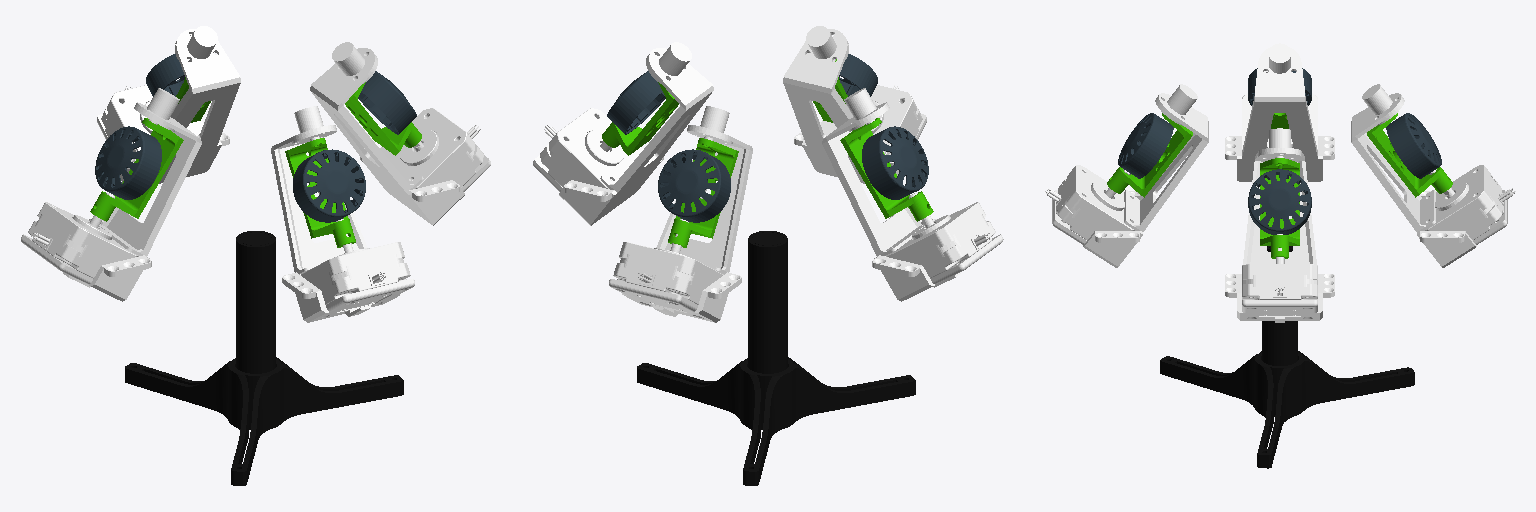
The robot description file, URDF, robot "vscmg":
<?xml version="1.0" ?>
<!-- =================================================================================== -->
<!-- |    This document was autogenerated by xacro from vscmg.urdf.xacro               | -->
<!-- |    EDITING THIS FILE BY HAND IS NOT RECOMMENDED                                 | -->
<!-- =================================================================================== -->
<robot name="vscmg">
  <material name="blue">
    <color rgba="0 0 0.8 1"/>
  </material>
  <material name="platform_color">
    <color rgba="0.7843137254901961 0.7843137254901961 0.7843137254901961 1.0"/>
  </material>
  <material name="tripod_color">
    <color rgba="0.1 0.1 0.1 1.0"/>
  </material>
  <material name="cmg_frame_color">
    <color rgba="1.0 1.0 1.0 1.0"/>
  </material>
  <material name="gimbal_color">
    <color rgba="0.3 0.8 0.05 1.0"/>
  </material>
  <material name="rw_color">
    <color rgba="0.23 0.29 0.33 1.0"/>
  </material>
  <link name="floating_base"/>
  <joint name="floating_base_joint" type="fixed">
    <origin rpy="0.0 0.0 0.0" xyz="0.0 0.0 0.0"/>
    <parent link="floating_base"/>
    <child link="platform"/>
    <axis xyz="0.0 0.0 0.0"/>
    <limit effort="0.0" lower="0.0" upper="0.0" velocity="0.0"/>
  </joint>
  <link name="platform">
    <inertial>
      <origin rpy="0.0 0.0 0.0" xyz="0.0 0.0 0.0"/>
      <mass value="0.0"/>
      <inertia ixx="0.0" ixy="0.0" ixz="0.0" iyy="0.0" iyz="0.0" izz="0.0"/>
    </inertial>
    <visual name="">
      <origin rpy="0.0 0.0 0.0" xyz="0.0 0.0 0.05"/>
      <geometry>
        <mesh filename="package://vscmg_description/meshes/base.stl" scale="0.001 0.001 0.001"/>
      </geometry>
      <material name="platform_color"/>
    </visual>
    <collision>
      <origin rpy="0.0 0.0 0.0" xyz="0.0 0.0 0.05"/>
      <geometry>
        <mesh filename="package://vscmg_description/meshes/base.stl" scale="0.001 0.001 0.001"/>
      </geometry>
    </collision>
  </link>
  <!-- SGCMG base frame -->
  <link name="sgcmg_frame_1">
    <inertial>
      <origin rpy="0.0 0.0 0.0" xyz="0.0 0.0 0.0"/>
      <mass value="0.0"/>
      <inertia ixx="0.0" ixy="0.0" ixz="0.0" iyy="0.0" iyz="0.0" izz="0.0"/>
    </inertial>
    <visual name="">
      <origin rpy="0.0 0.0 0.0" xyz="0.0 0.0 0.0"/>
      <geometry>
        <mesh filename="package://vscmg_description/meshes/cmg_frame_z.stl" scale="0.001 0.001 0.001"/>
      </geometry>
      <material name="cmg_frame_color"/>
    </visual>
    <collision>
      <origin rpy="0.0 0.0 0.0" xyz="0.0 0.0 0.0"/>
      <geometry>
        <mesh filename="package://vscmg_description/meshes/cmg_frame_z.stl" scale="0.001 0.001 0.001"/>
      </geometry>
    </collision>
  </link>
  <!-- SGCMG Gimbal  -->
  <link name="gimbal_frame_1">
    <inertial>
      <origin rpy="0.0 0.0 0.0" xyz="0.0 0.0 0.0"/>
      <mass value="0.0"/>
      <inertia ixx="0.0" ixy="0.0" ixz="0.0" iyy="0.0" iyz="0.0" izz="0.0"/>
    </inertial>
    <visual name="">
      <origin rpy="0.0 0.0 0.0" xyz="0.0 0.0 0.0"/>
      <geometry>
        <mesh filename="package://vscmg_description/meshes/gimbal_frame_z.stl" scale="0.001 0.001 0.001"/>
      </geometry>
      <material name="gimbal_color"/>
    </visual>
    <collision>
      <origin rpy="0.0 0.0 0.0" xyz="0.0 0.0 0.0"/>
      <geometry>
        <mesh filename="package://vscmg_description/meshes/gimbal_frame_z.stl" scale="0.001 0.001 0.001"/>
      </geometry>
    </collision>
  </link>
  <!-- SGCMG Reaction Wheel  -->
  <link name="rw_frame_1">
    <inertial>
      <origin rpy="0.0 0.0 0.0" xyz="0.0 0.0 0.0"/>
      <mass value="0.0"/>
      <inertia ixx="0.0" ixy="0.0" ixz="0.0" iyy="0.0" iyz="0.0" izz="0.0"/>
    </inertial>
    <visual name="">
      <origin rpy="0.0 0.0 0.0" xyz="0.0 0.0 0.0"/>
      <geometry>
        <mesh filename="package://vscmg_description/meshes/rw_y.stl" scale="0.001 0.001 0.001"/>
      </geometry>
      <material name="rw_color"/>
    </visual>
    <collision>
      <origin rpy="0.0 0.0 0.0" xyz="0.0 0.0 0.0"/>
      <geometry>
        <mesh filename="package://vscmg_description/meshes/rw_y.stl" scale="0.001 0.001 0.001"/>
      </geometry>
    </collision>
  </link>
  <!-- Fixed joint of SGCMG attached to parent -->
  <joint name="j1" type="fixed">
    <origin rpy="0.6154797086703873 0.0 0.0" xyz="4.500576986866523e-18 0.0735 0.059"/>
    <parent link="platform"/>
    <child link="sgcmg_frame_1"/>
    <axis xyz="0.0 0.0 0.0"/>
    <limit effort="0.0" lower="0.0" upper="0.0" velocity="0.0"/>
  </joint>
  <!-- Joint at Gimbal Axis -->
  <!-- <joint name="sgcmg_frame_${id}_to_gimbal_frame_${id}" type="continuous"> -->
  <joint name="gimbal_1" type="continuous">
    <origin rpy="0.0 0.0 0.0" xyz="0.0 0.0 0.0"/>
    <parent link="sgcmg_frame_1"/>
    <child link="gimbal_frame_1"/>
    <axis xyz="0.0 0.0 1.0"/>
    <limit effort="0.0" lower="0.0" upper="0.0" velocity="0.0"/>
  </joint>
  <!-- Joint at Reaction wheel spin Axis -->
  <!-- <joint name="rw_${id}_to_sgcmg_frame_${id}" type="continuous">  -->
  <joint name="wheel_1" type="continuous">
    <origin rpy="0.0 0.0 0.0" xyz="0.0 0.0 0.0"/>
    <parent link="gimbal_frame_1"/>
    <child link="rw_frame_1"/>
    <axis xyz="0.0 1.0 0.0"/>
    <limit effort="0.0" lower="0.0" upper="0.0" velocity="0.0"/>
  </joint>
  <!-- SGCMG base frame -->
  <link name="sgcmg_frame_2">
    <inertial>
      <origin rpy="0.0 0.0 0.0" xyz="0.0 0.0 0.0"/>
      <mass value="0.0"/>
      <inertia ixx="0.0" ixy="0.0" ixz="0.0" iyy="0.0" iyz="0.0" izz="0.0"/>
    </inertial>
    <visual name="">
      <origin rpy="0.0 0.0 0.0" xyz="0.0 0.0 0.0"/>
      <geometry>
        <mesh filename="package://vscmg_description/meshes/cmg_frame_z.stl" scale="0.001 0.001 0.001"/>
      </geometry>
      <material name="cmg_frame_color"/>
    </visual>
    <collision>
      <origin rpy="0.0 0.0 0.0" xyz="0.0 0.0 0.0"/>
      <geometry>
        <mesh filename="package://vscmg_description/meshes/cmg_frame_z.stl" scale="0.001 0.001 0.001"/>
      </geometry>
    </collision>
  </link>
  <!-- SGCMG Gimbal  -->
  <link name="gimbal_frame_2">
    <inertial>
      <origin rpy="0.0 0.0 0.0" xyz="0.0 0.0 0.0"/>
      <mass value="0.0"/>
      <inertia ixx="0.0" ixy="0.0" ixz="0.0" iyy="0.0" iyz="0.0" izz="0.0"/>
    </inertial>
    <visual name="">
      <origin rpy="0.0 0.0 0.0" xyz="0.0 0.0 0.0"/>
      <geometry>
        <mesh filename="package://vscmg_description/meshes/gimbal_frame_z.stl" scale="0.001 0.001 0.001"/>
      </geometry>
      <material name="gimbal_color"/>
    </visual>
    <collision>
      <origin rpy="0.0 0.0 0.0" xyz="0.0 0.0 0.0"/>
      <geometry>
        <mesh filename="package://vscmg_description/meshes/gimbal_frame_z.stl" scale="0.001 0.001 0.001"/>
      </geometry>
    </collision>
  </link>
  <!-- SGCMG Reaction Wheel  -->
  <link name="rw_frame_2">
    <inertial>
      <origin rpy="0.0 0.0 0.0" xyz="0.0 0.0 0.0"/>
      <mass value="0.0"/>
      <inertia ixx="0.0" ixy="0.0" ixz="0.0" iyy="0.0" iyz="0.0" izz="0.0"/>
    </inertial>
    <visual name="">
      <origin rpy="0.0 0.0 0.0" xyz="0.0 0.0 0.0"/>
      <geometry>
        <mesh filename="package://vscmg_description/meshes/rw_y.stl" scale="0.001 0.001 0.001"/>
      </geometry>
      <material name="rw_color"/>
    </visual>
    <collision>
      <origin rpy="0.0 0.0 0.0" xyz="0.0 0.0 0.0"/>
      <geometry>
        <mesh filename="package://vscmg_description/meshes/rw_y.stl" scale="0.001 0.001 0.001"/>
      </geometry>
    </collision>
  </link>
  <!-- Fixed joint of SGCMG attached to parent -->
  <joint name="j2" type="fixed">
    <origin rpy="0.6154797086703873 0.0 1.5707963267948966" xyz="-0.0735 9.001153973733046e-18 0.059"/>
    <parent link="platform"/>
    <child link="sgcmg_frame_2"/>
    <axis xyz="0.0 0.0 0.0"/>
    <limit effort="0.0" lower="0.0" upper="0.0" velocity="0.0"/>
  </joint>
  <!-- Joint at Gimbal Axis -->
  <!-- <joint name="sgcmg_frame_${id}_to_gimbal_frame_${id}" type="continuous"> -->
  <joint name="gimbal_2" type="continuous">
    <origin rpy="0.0 0.0 0.0" xyz="0.0 0.0 0.0"/>
    <parent link="sgcmg_frame_2"/>
    <child link="gimbal_frame_2"/>
    <axis xyz="0.0 0.0 1.0"/>
    <limit effort="0.0" lower="0.0" upper="0.0" velocity="0.0"/>
  </joint>
  <!-- Joint at Reaction wheel spin Axis -->
  <!-- <joint name="rw_${id}_to_sgcmg_frame_${id}" type="continuous">  -->
  <joint name="wheel_2" type="continuous">
    <origin rpy="0.0 0.0 0.0" xyz="0.0 0.0 0.0"/>
    <parent link="gimbal_frame_2"/>
    <child link="rw_frame_2"/>
    <axis xyz="0.0 1.0 0.0"/>
    <limit effort="0.0" lower="0.0" upper="0.0" velocity="0.0"/>
  </joint>
  <!-- SGCMG base frame -->
  <link name="sgcmg_frame_3">
    <inertial>
      <origin rpy="0.0 0.0 0.0" xyz="0.0 0.0 0.0"/>
      <mass value="0.0"/>
      <inertia ixx="0.0" ixy="0.0" ixz="0.0" iyy="0.0" iyz="0.0" izz="0.0"/>
    </inertial>
    <visual name="">
      <origin rpy="0.0 0.0 0.0" xyz="0.0 0.0 0.0"/>
      <geometry>
        <mesh filename="package://vscmg_description/meshes/cmg_frame_z.stl" scale="0.001 0.001 0.001"/>
      </geometry>
      <material name="cmg_frame_color"/>
    </visual>
    <collision>
      <origin rpy="0.0 0.0 0.0" xyz="0.0 0.0 0.0"/>
      <geometry>
        <mesh filename="package://vscmg_description/meshes/cmg_frame_z.stl" scale="0.001 0.001 0.001"/>
      </geometry>
    </collision>
  </link>
  <!-- SGCMG Gimbal  -->
  <link name="gimbal_frame_3">
    <inertial>
      <origin rpy="0.0 0.0 0.0" xyz="0.0 0.0 0.0"/>
      <mass value="0.0"/>
      <inertia ixx="0.0" ixy="0.0" ixz="0.0" iyy="0.0" iyz="0.0" izz="0.0"/>
    </inertial>
    <visual name="">
      <origin rpy="0.0 0.0 0.0" xyz="0.0 0.0 0.0"/>
      <geometry>
        <mesh filename="package://vscmg_description/meshes/gimbal_frame_z.stl" scale="0.001 0.001 0.001"/>
      </geometry>
      <material name="gimbal_color"/>
    </visual>
    <collision>
      <origin rpy="0.0 0.0 0.0" xyz="0.0 0.0 0.0"/>
      <geometry>
        <mesh filename="package://vscmg_description/meshes/gimbal_frame_z.stl" scale="0.001 0.001 0.001"/>
      </geometry>
    </collision>
  </link>
  <!-- SGCMG Reaction Wheel  -->
  <link name="rw_frame_3">
    <inertial>
      <origin rpy="0.0 0.0 0.0" xyz="0.0 0.0 0.0"/>
      <mass value="0.0"/>
      <inertia ixx="0.0" ixy="0.0" ixz="0.0" iyy="0.0" iyz="0.0" izz="0.0"/>
    </inertial>
    <visual name="">
      <origin rpy="0.0 0.0 0.0" xyz="0.0 0.0 0.0"/>
      <geometry>
        <mesh filename="package://vscmg_description/meshes/rw_y.stl" scale="0.001 0.001 0.001"/>
      </geometry>
      <material name="rw_color"/>
    </visual>
    <collision>
      <origin rpy="0.0 0.0 0.0" xyz="0.0 0.0 0.0"/>
      <geometry>
        <mesh filename="package://vscmg_description/meshes/rw_y.stl" scale="0.001 0.001 0.001"/>
      </geometry>
    </collision>
  </link>
  <!-- Fixed joint of SGCMG attached to parent -->
  <joint name="j3" type="fixed">
    <origin rpy="0.6154797086703873 0.0 3.141592653589793" xyz="-1.3501730960599567e-17 -0.0735 0.059"/>
    <parent link="platform"/>
    <child link="sgcmg_frame_3"/>
    <axis xyz="0.0 0.0 0.0"/>
    <limit effort="0.0" lower="0.0" upper="0.0" velocity="0.0"/>
  </joint>
  <!-- Joint at Gimbal Axis -->
  <!-- <joint name="sgcmg_frame_${id}_to_gimbal_frame_${id}" type="continuous"> -->
  <joint name="gimbal_3" type="continuous">
    <origin rpy="0.0 0.0 0.0" xyz="0.0 0.0 0.0"/>
    <parent link="sgcmg_frame_3"/>
    <child link="gimbal_frame_3"/>
    <axis xyz="0.0 0.0 1.0"/>
    <limit effort="0.0" lower="0.0" upper="0.0" velocity="0.0"/>
  </joint>
  <!-- Joint at Reaction wheel spin Axis -->
  <!-- <joint name="rw_${id}_to_sgcmg_frame_${id}" type="continuous">  -->
  <joint name="wheel_3" type="continuous">
    <origin rpy="0.0 0.0 0.0" xyz="0.0 0.0 0.0"/>
    <parent link="gimbal_frame_3"/>
    <child link="rw_frame_3"/>
    <axis xyz="0.0 1.0 0.0"/>
    <limit effort="0.0" lower="0.0" upper="0.0" velocity="0.0"/>
  </joint>
  <!-- SGCMG base frame -->
  <link name="sgcmg_frame_4">
    <inertial>
      <origin rpy="0.0 0.0 0.0" xyz="0.0 0.0 0.0"/>
      <mass value="0.0"/>
      <inertia ixx="0.0" ixy="0.0" ixz="0.0" iyy="0.0" iyz="0.0" izz="0.0"/>
    </inertial>
    <visual name="">
      <origin rpy="0.0 0.0 0.0" xyz="0.0 0.0 0.0"/>
      <geometry>
        <mesh filename="package://vscmg_description/meshes/cmg_frame_z.stl" scale="0.001 0.001 0.001"/>
      </geometry>
      <material name="cmg_frame_color"/>
    </visual>
    <collision>
      <origin rpy="0.0 0.0 0.0" xyz="0.0 0.0 0.0"/>
      <geometry>
        <mesh filename="package://vscmg_description/meshes/cmg_frame_z.stl" scale="0.001 0.001 0.001"/>
      </geometry>
    </collision>
  </link>
  <!-- SGCMG Gimbal  -->
  <link name="gimbal_frame_4">
    <inertial>
      <origin rpy="0.0 0.0 0.0" xyz="0.0 0.0 0.0"/>
      <mass value="0.0"/>
      <inertia ixx="0.0" ixy="0.0" ixz="0.0" iyy="0.0" iyz="0.0" izz="0.0"/>
    </inertial>
    <visual name="">
      <origin rpy="0.0 0.0 0.0" xyz="0.0 0.0 0.0"/>
      <geometry>
        <mesh filename="package://vscmg_description/meshes/gimbal_frame_z.stl" scale="0.001 0.001 0.001"/>
      </geometry>
      <material name="gimbal_color"/>
    </visual>
    <collision>
      <origin rpy="0.0 0.0 0.0" xyz="0.0 0.0 0.0"/>
      <geometry>
        <mesh filename="package://vscmg_description/meshes/gimbal_frame_z.stl" scale="0.001 0.001 0.001"/>
      </geometry>
    </collision>
  </link>
  <!-- SGCMG Reaction Wheel  -->
  <link name="rw_frame_4">
    <inertial>
      <origin rpy="0.0 0.0 0.0" xyz="0.0 0.0 0.0"/>
      <mass value="0.0"/>
      <inertia ixx="0.0" ixy="0.0" ixz="0.0" iyy="0.0" iyz="0.0" izz="0.0"/>
    </inertial>
    <visual name="">
      <origin rpy="0.0 0.0 0.0" xyz="0.0 0.0 0.0"/>
      <geometry>
        <mesh filename="package://vscmg_description/meshes/rw_y.stl" scale="0.001 0.001 0.001"/>
      </geometry>
      <material name="rw_color"/>
    </visual>
    <collision>
      <origin rpy="0.0 0.0 0.0" xyz="0.0 0.0 0.0"/>
      <geometry>
        <mesh filename="package://vscmg_description/meshes/rw_y.stl" scale="0.001 0.001 0.001"/>
      </geometry>
    </collision>
  </link>
  <!-- Fixed joint of SGCMG attached to parent -->
  <joint name="j4" type="fixed">
    <origin rpy="0.6154797086703873 0.0 4.71238898038469" xyz="0.0735 -1.8002307947466092e-17 0.059"/>
    <parent link="platform"/>
    <child link="sgcmg_frame_4"/>
    <axis xyz="0.0 0.0 0.0"/>
    <limit effort="0.0" lower="0.0" upper="0.0" velocity="0.0"/>
  </joint>
  <!-- Joint at Gimbal Axis -->
  <!-- <joint name="sgcmg_frame_${id}_to_gimbal_frame_${id}" type="continuous"> -->
  <joint name="gimbal_4" type="continuous">
    <origin rpy="0.0 0.0 0.0" xyz="0.0 0.0 0.0"/>
    <parent link="sgcmg_frame_4"/>
    <child link="gimbal_frame_4"/>
    <axis xyz="0.0 0.0 1.0"/>
    <limit effort="0.0" lower="0.0" upper="0.0" velocity="0.0"/>
  </joint>
  <!-- Joint at Reaction wheel spin Axis -->
  <!-- <joint name="rw_${id}_to_sgcmg_frame_${id}" type="continuous">  -->
  <joint name="wheel_4" type="continuous">
    <origin rpy="0.0 0.0 0.0" xyz="0.0 0.0 0.0"/>
    <parent link="gimbal_frame_4"/>
    <child link="rw_frame_4"/>
    <axis xyz="0.0 1.0 0.0"/>
    <limit effort="0.0" lower="0.0" upper="0.0" velocity="0.0"/>
  </joint>
  <!-- or -->
  <!-- 
        <xacro:sgcmg id = "0" parent = "platform" r  = "0.0735" h = "0.059" yaw="0"/>
        <xacro:sgcmg id = "1" parent = "platform" r  = "0.0735" h = "0.059" yaw="90"/>
        <xacro:sgcmg id = "2" parent = "platform" r  = "0.0735" h = "0.059" yaw="180"/>
        <xacro:sgcmg id = "3" parent = "platform" r  = "0.0735" h = "0.059"u yaw="270"/>
    -->
  <link name="tripod">
    <inertial>
      <origin rpy="0.0 0.0 0.0" xyz="0.0 0.0 0.0"/>
      <mass value="0.0"/>
      <inertia ixx="0.0" ixy="0.0" ixz="0.0" iyy="0.0" iyz="0.0" izz="0.0"/>
    </inertial>
    <visual name="">
      <origin rpy="0.0 0.0 0.0" xyz="0.0 0.0 0.05"/>
      <geometry>
        <mesh filename="package://vscmg_description/meshes/tripod.stl" scale="0.001 0.001 0.001"/>
      </geometry>
      <material name="tripod_color"/>
    </visual>
    <collision>
      <origin rpy="0.0 0.0 0.0" xyz="0.0 0.0 0.05"/>
      <geometry>
        <mesh filename="package://vscmg_description/meshes/tripod.stl" scale="0.001 0.001 0.001"/>
      </geometry>
    </collision>
  </link>
  <link name="world"/>
  <joint name="tripod_world" type="fixed">
    <origin rpy="0.0 0.0 0.0" xyz="0.0 0.0 0.0"/>
    <parent link="world"/>
    <child link="tripod"/>
    <limit effort="0.0" lower="0.0" upper="0.0" velocity="0.0"/>
  </joint>
  <joint name="tripod_flaoting" type="fixed">
    <origin rpy="0.0 0.0 0.0" xyz="0.0 0.0 0.0"/>
    <parent link="tripod"/>
    <child link="floating_base"/>
    <limit effort="0.0" lower="0.0" upper="0.0" velocity="0.0"/>
  </joint>
</robot>

--- Render facts (derived) ---
3 views of the same robot in one strip: view 1: azimuth 30°, elevation 25°; view 2: azimuth 150°, elevation 25°; view 3: azimuth 270°, elevation 25° (orthographic).
Robot: vscmg — 16 links, 15 joints (8 continuous, 7 fixed); root link world; default pose: all joints at 0.
Links seen in each view (by area): view 1: tripod, sgcmg_frame_4, sgcmg_frame_2, sgcmg_frame_3, sgcmg_frame_1, rw_frame_3, rw_frame_2, rw_frame_4, gimbal_frame_2, gimbal_frame_3, gimbal_frame_4, rw_frame_1; view 2: tripod, sgcmg_frame_4, sgcmg_frame_2, sgcmg_frame_1, sgcmg_frame_3, rw_frame_1, rw_frame_2, rw_frame_4, gimbal_frame_2, gimbal_frame_1, gimbal_frame_4, rw_frame_3; view 3: tripod, sgcmg_frame_1, sgcmg_frame_3, sgcmg_frame_4, sgcmg_frame_2, rw_frame_4, rw_frame_1, rw_frame_3, gimbal_frame_1, gimbal_frame_3, gimbal_frame_4.
Boxes of the visible links, left/top/right/bottom form: tripod: left=125, top=231, right=403, bottom=485; sgcmg_frame_4: left=310, top=42, right=490, bottom=225; sgcmg_frame_2: left=21, top=88, right=201, bottom=301; sgcmg_frame_3: left=271, top=106, right=414, bottom=322; sgcmg_frame_1: left=97, top=26, right=240, bottom=183; rw_frame_3: left=293, top=149, right=365, bottom=222; rw_frame_2: left=95, top=126, right=161, bottom=199; rw_frame_4: left=358, top=71, right=416, bottom=134; gimbal_frame_2: left=90, top=118, right=183, bottom=221; gimbal_frame_3: left=285, top=138, right=355, bottom=247; gimbal_frame_4: left=345, top=82, right=421, bottom=155; rw_frame_1: left=146, top=54, right=184, bottom=96; tripod: left=637, top=231, right=915, bottom=485; sgcmg_frame_4: left=533, top=42, right=713, bottom=225; sgcmg_frame_2: left=822, top=88, right=1003, bottom=301; sgcmg_frame_1: left=609, top=106, right=752, bottom=322; sgcmg_frame_3: left=783, top=26, right=926, bottom=183; rw_frame_1: left=658, top=149, right=730, bottom=222; rw_frame_2: left=862, top=126, right=928, bottom=199; rw_frame_4: left=607, top=71, right=665, bottom=134; gimbal_frame_2: left=840, top=118, right=933, bottom=221; gimbal_frame_1: left=668, top=138, right=738, bottom=247; gimbal_frame_4: left=602, top=82, right=678, bottom=155; rw_frame_3: left=839, top=54, right=877, bottom=96; tripod: left=1160, top=246, right=1414, bottom=468; sgcmg_frame_1: left=1351, top=84, right=1515, bottom=267; sgcmg_frame_3: left=1045, top=84, right=1208, bottom=267; sgcmg_frame_4: left=1225, top=128, right=1334, bottom=322; sgcmg_frame_2: left=1225, top=43, right=1334, bottom=181; rw_frame_4: left=1248, top=169, right=1311, bottom=234; rw_frame_1: left=1386, top=113, right=1441, bottom=178; rw_frame_3: left=1118, top=113, right=1173, bottom=178; gimbal_frame_1: left=1367, top=113, right=1452, bottom=197; gimbal_frame_3: left=1107, top=113, right=1192, bottom=197; gimbal_frame_4: left=1260, top=158, right=1299, bottom=258.
Size in the robot's own frame: 0.2599 by 0.2599 by 0.1957 metres.
Meshes: 5 distinct files referenced, 13 mesh visuals loaded (4 binary STL); not drawn: 1 (reference not matched to a file when rendering).
